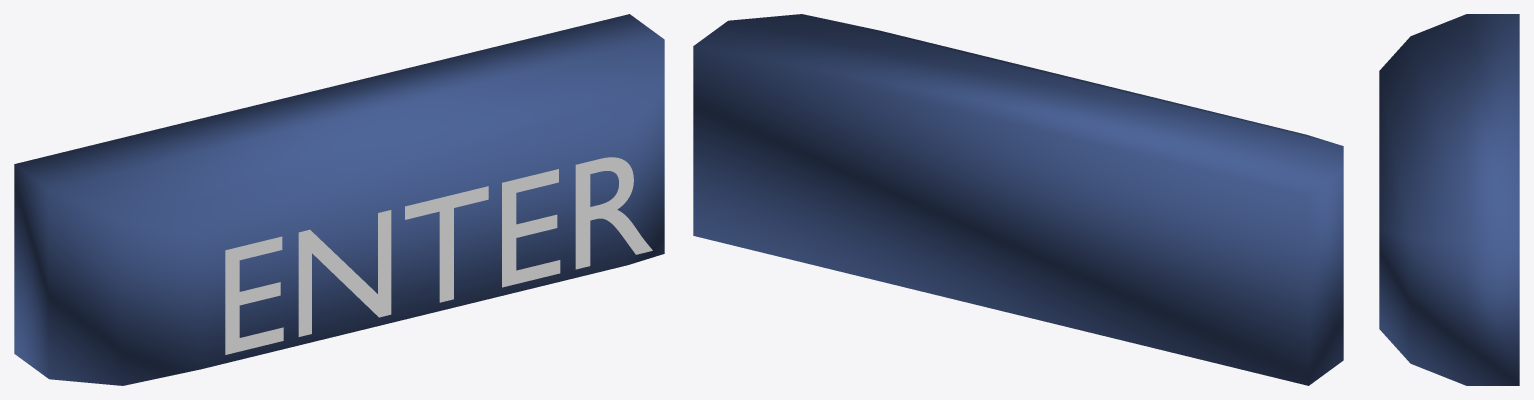
The model's file is lockbuttonEnter.glb.
3 renders of one model, left to right at view 1: azimuth 30°, elevation 25°; view 2: azimuth 150°, elevation 25°; view 3: azimuth 270°, elevation 25°, orthographic. The views are drawn at different scales.
Visible parts, largest first — view 1: Text.009; view 2: Text.009; view 3: Text.009.
Part boxes in pixels (x1,y1,x2,y2): Text.009: (14, 14, 664, 385); Text.009: (693, 14, 1343, 385); Text.009: (1379, 14, 1519, 385).
Bounding box in the file's own units: 0.1657 × 0.0488 × 0.0452.
